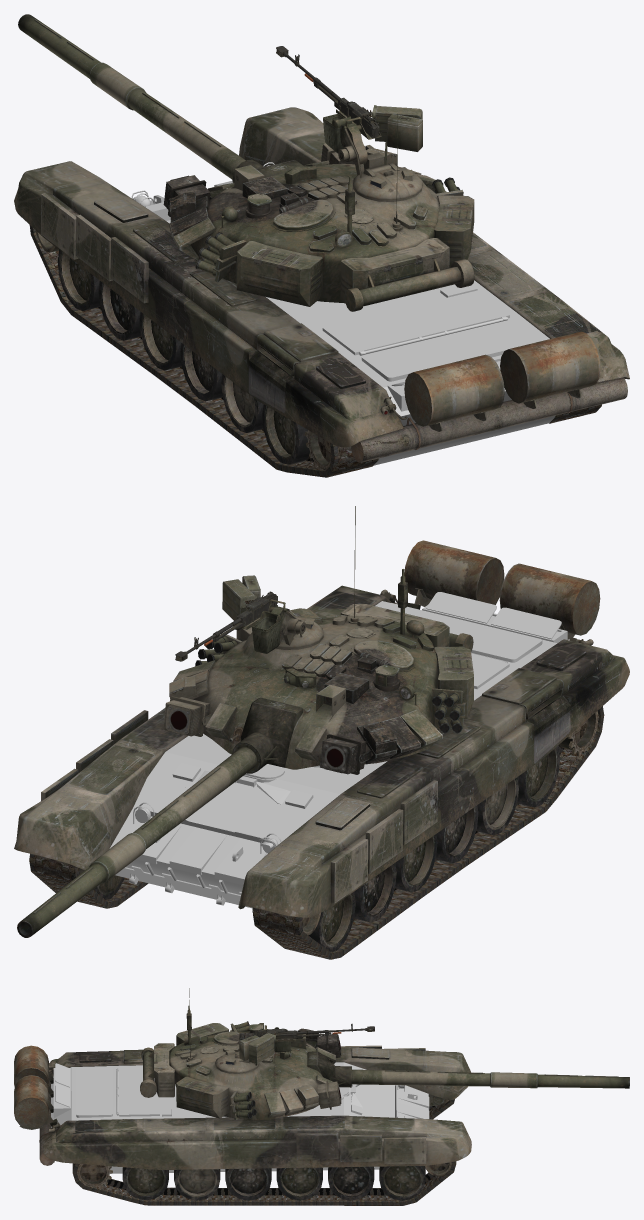
3 views of the same model, one above another, from view 1: azimuth 30°, elevation 25°; view 2: azimuth 150°, elevation 25°; view 3: azimuth 270°, elevation 25° (orthographic). The views are drawn at different scales.
Visible parts, largest first — view 1: Main_Body_2, Turret, Main_Body, gun; view 2: Main_Body_2, Turret, Main_Body, gun; view 3: Main_Body_2, Turret, Main_Body, gun.
Part boxes in pixels (<box>): Main_Body_2: <box>14,107,629,477</box>; Turret: <box>18,14,474,311</box>; Main_Body: <box>131,162,555,465</box>; gun: <box>276,46,381,138</box>; Main_Body_2: <box>14,540,629,959</box>; Turret: <box>17,506,473,937</box>; Main_Body: <box>109,592,567,912</box>; gun: <box>175,591,277,661</box>; Main_Body_2: <box>14,1045,471,1205</box>; Turret: <box>140,988,629,1120</box>; Main_Body: <box>51,1062,429,1173</box>; gun: <box>252,1023,374,1043</box>.
Size of the model in its own units: 348 by 331 by 1006.
